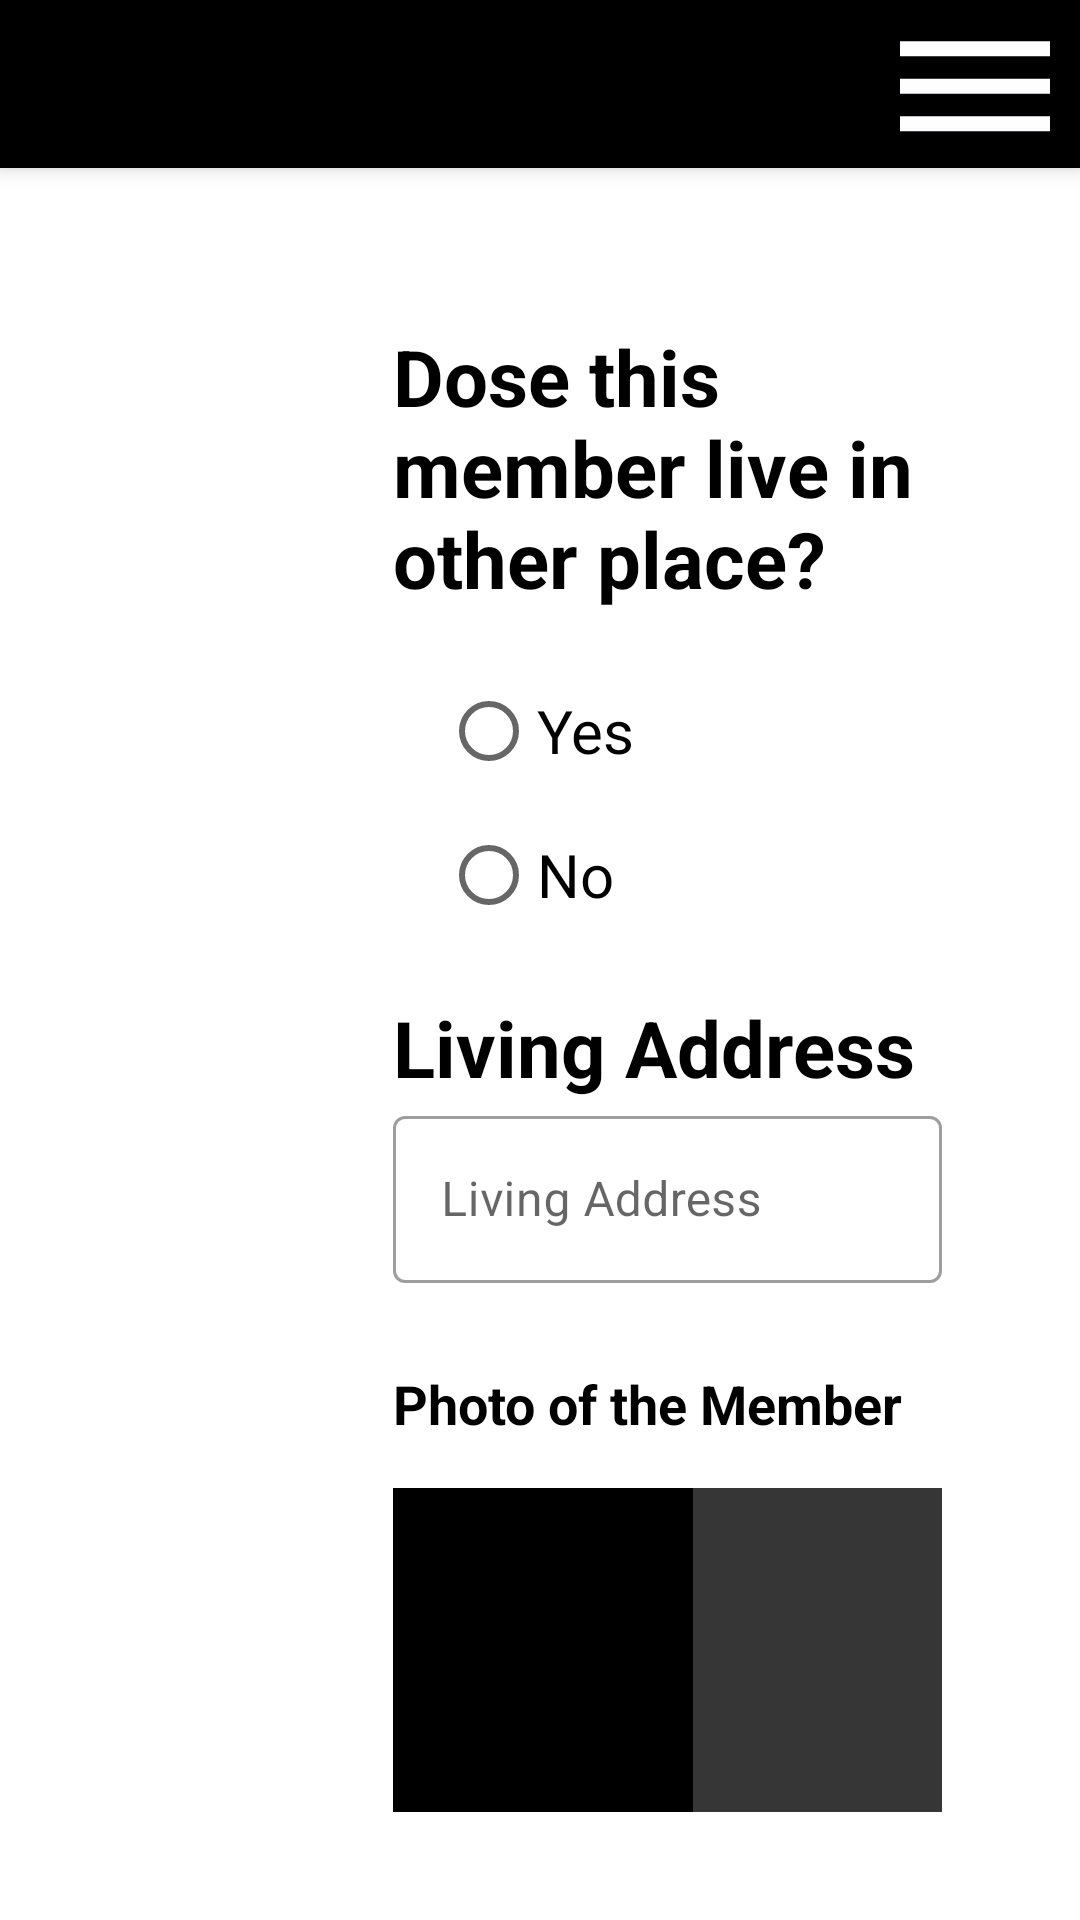

Icons on this 1080x1920 Android screen, each with its box as {"x1": x1, "y1": y1, "x2": x2, "y2": y2}:
dehaze: {"x1": 900, "y1": 41, "x2": 1050, "y2": 132}
